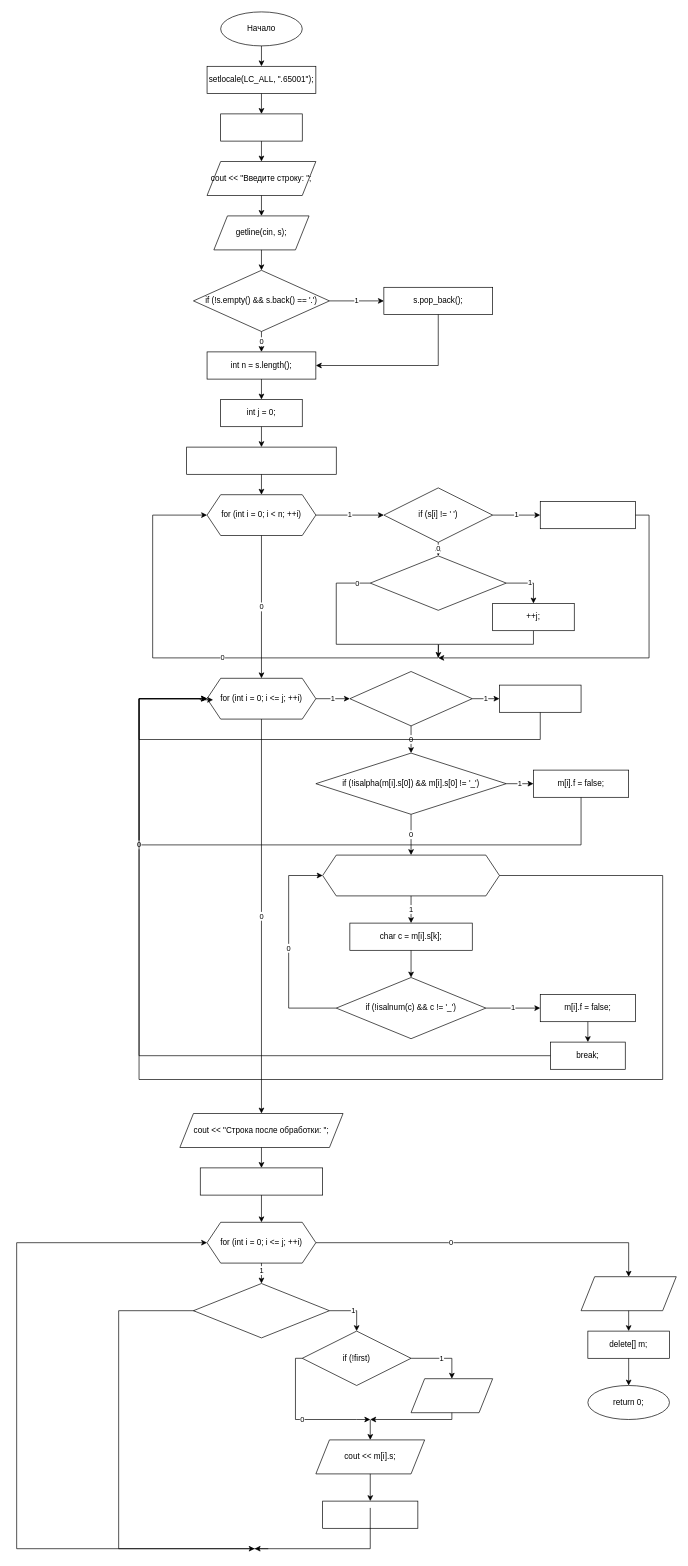
This 688x1566 diagram has some shape labels left out. The shapes that lost their labels are listed below. From the top down, each one's box as (x1, y1, x2, y2) in pixels, then its label:
(220, 113, 302, 141): string s;
(186, 446, 336, 474): mass* m = new mass[100]();
(540, 501, 635, 529): m[j].s += s[i];
(370, 555, 506, 610): if (!m[j].s.empty())
(349, 671, 472, 726): if (m[i].s.empty())
(499, 684, 581, 712): continue;
(322, 854, 499, 896): for (int k = 1; k < m[i].s.length(); ++k)
(200, 1167, 323, 1195): bool first = true;
(193, 1283, 329, 1338): if (m[i].f && !m[i].s.empty())
(580, 1276, 676, 1311): cout << endl;
(410, 1378, 493, 1413): cout << " ";
(322, 1500, 418, 1528): first = false;
